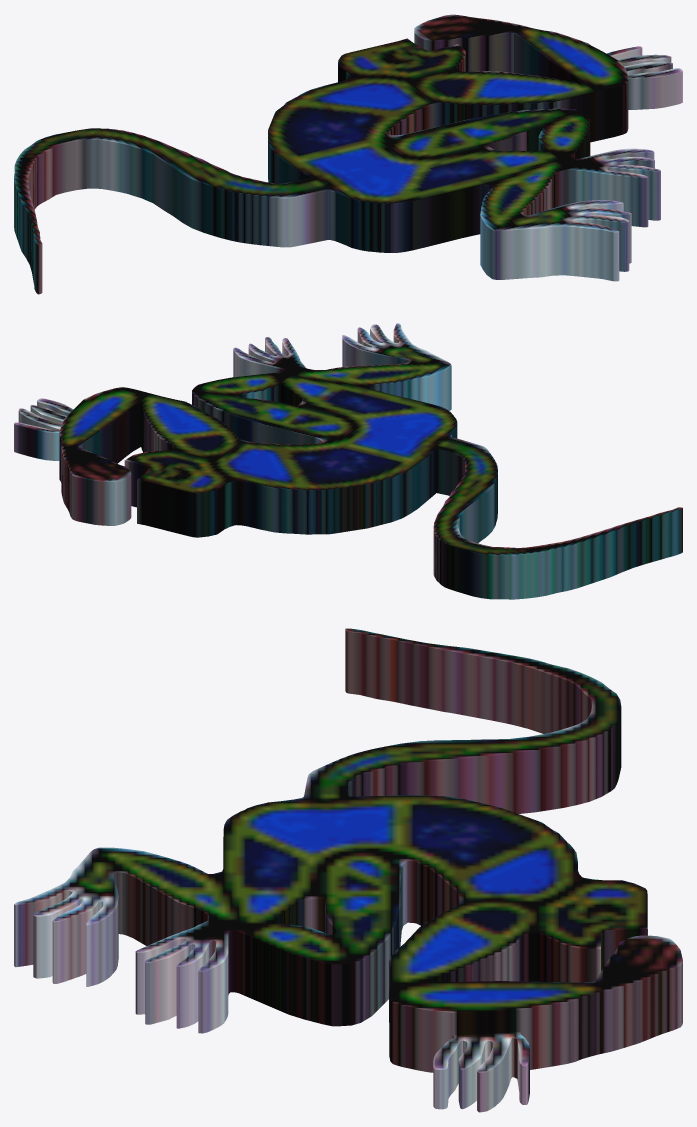
File: muro de la carne 2.dae
The picture shows the model from 3 angles, top to bottom: view 1: azimuth 30°, elevation 25°; view 2: azimuth 150°, elevation 25°; view 3: azimuth 270°, elevation 25°; orthographic projection. The views are drawn at different scales.
Parts seen in each view (by area): view 1: SketchUp (×2); view 2: SketchUp (×2); view 3: SketchUp (×2).
Part boxes in pixels (left/top/right/bottom): SketchUp (×2): left=14, top=14, right=682, bottom=294; SketchUp (×2): left=14, top=323, right=682, bottom=599; SketchUp (×2): left=14, top=628, right=682, bottom=1112.
Bounding box in the file's own units: 20.13 × 13.48 × 1.38.
